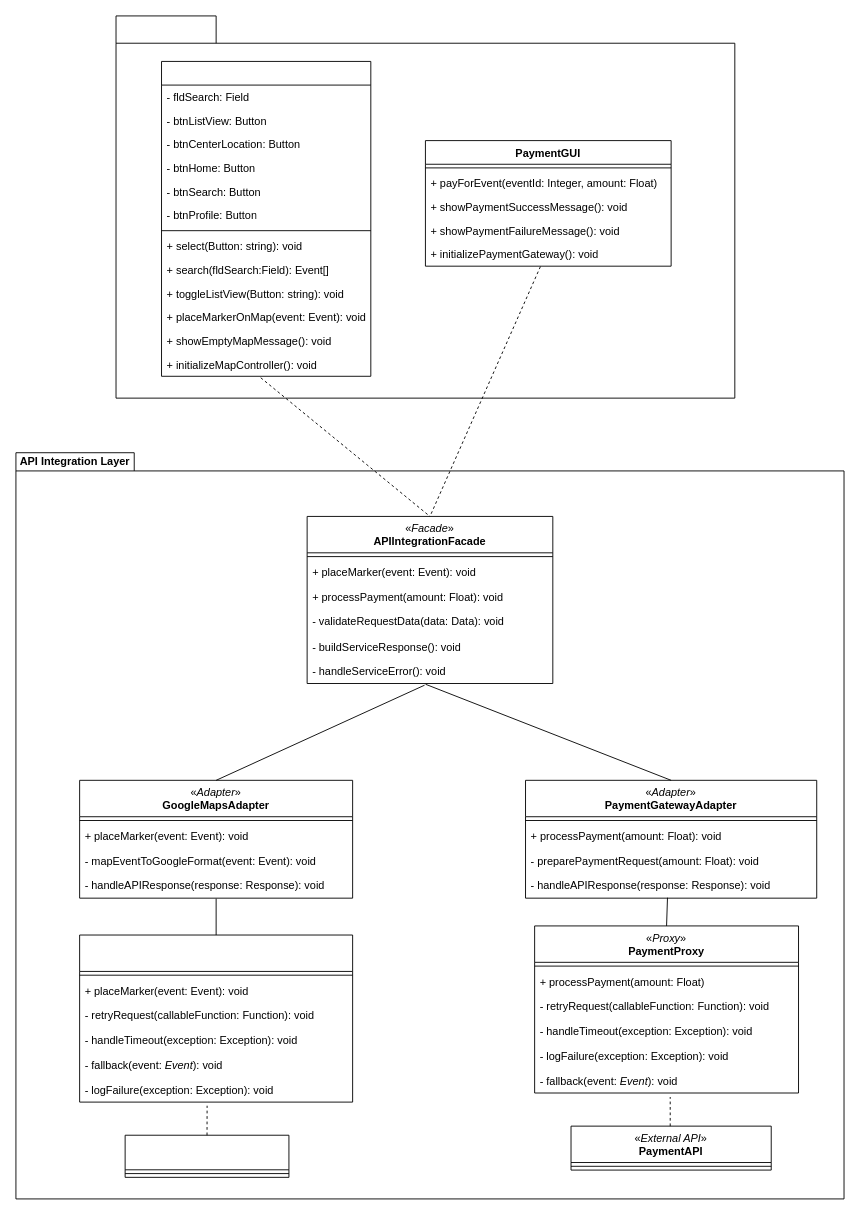
Some shapes in this 860 by 1215 pixel diagram are drawn without their labels. Here are the shapes that lost their labels. From the top down, the box of each, then its label:
(161, 61, 371, 376): MapGUI
(115, 15, 735, 398): GUI Layer
(79, 934, 353, 1102): « Proxy » GoogleMapsProxy
(124, 1134, 289, 1177): « External API » GoogleMapsAPI
